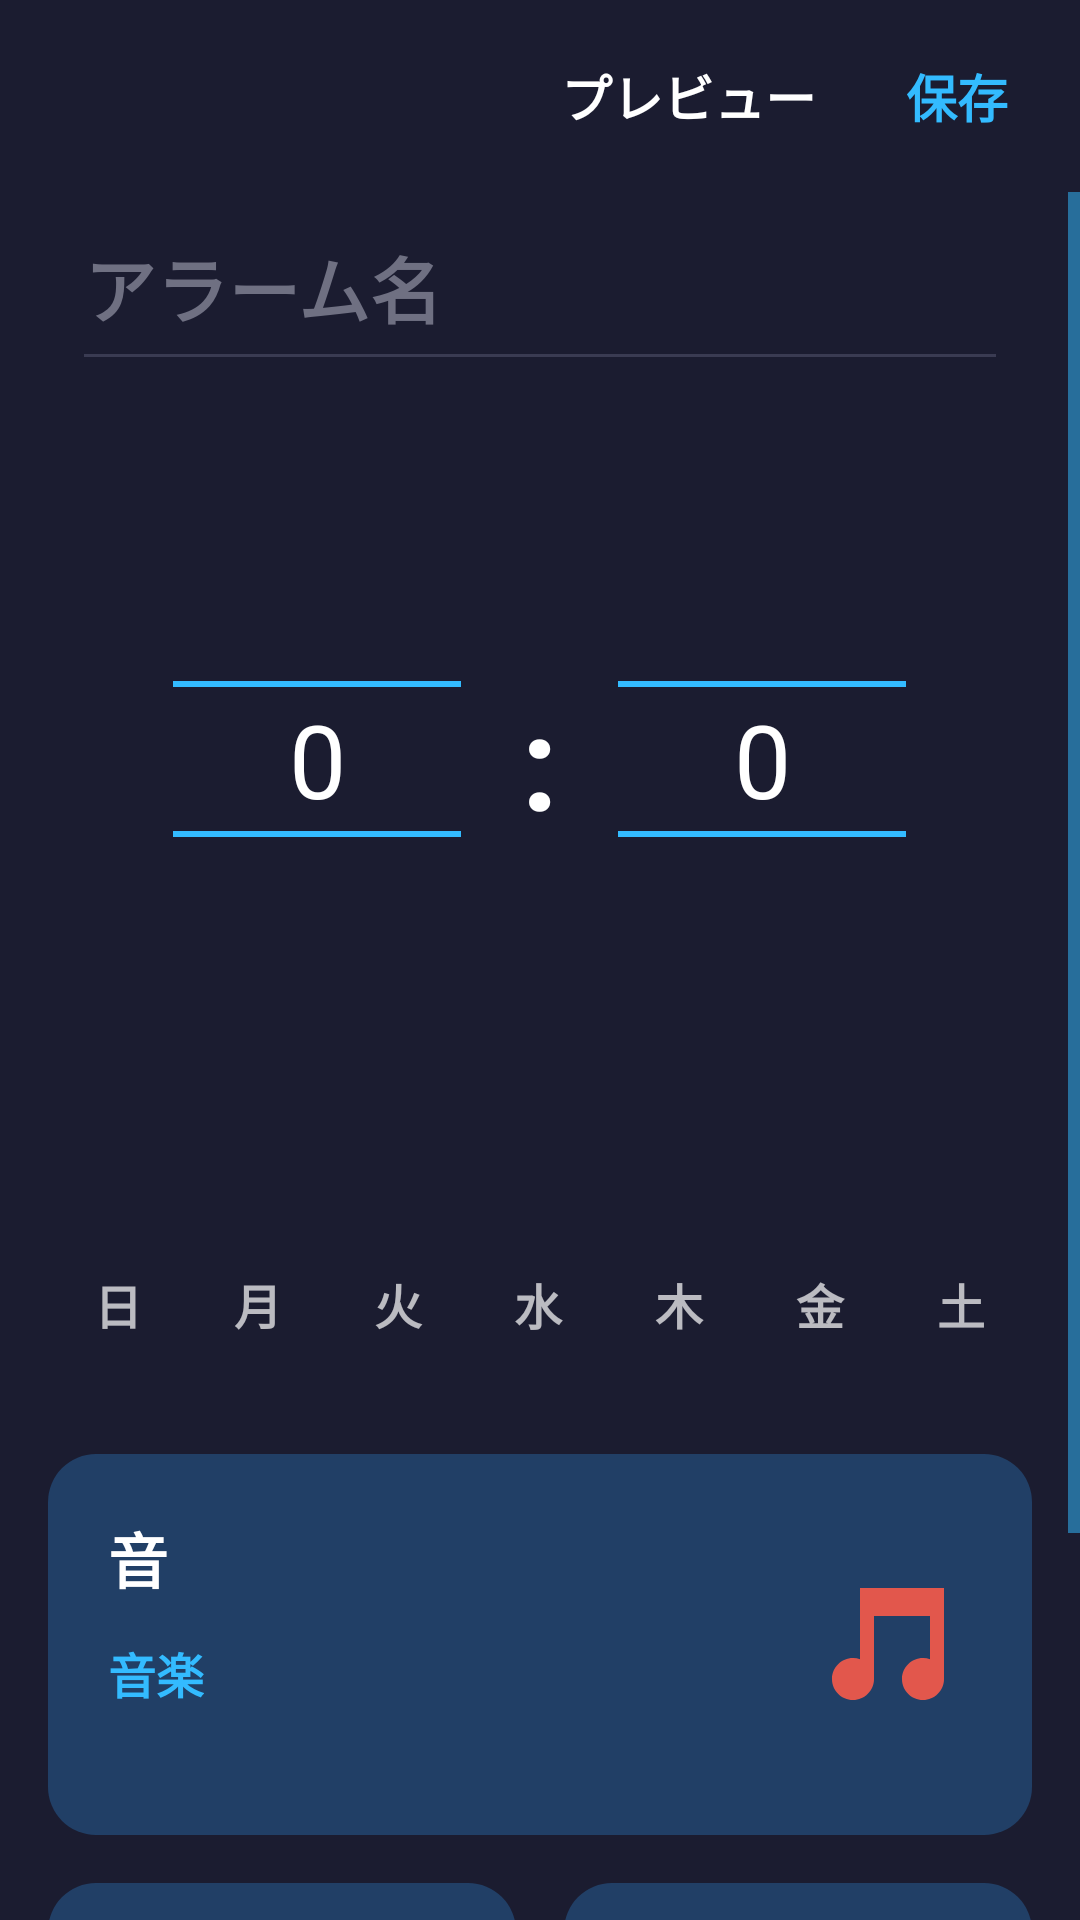

Icons on this 1080w x 1920h Android screen, each with the point to tap as [x,y]:
note: [888,1644]
